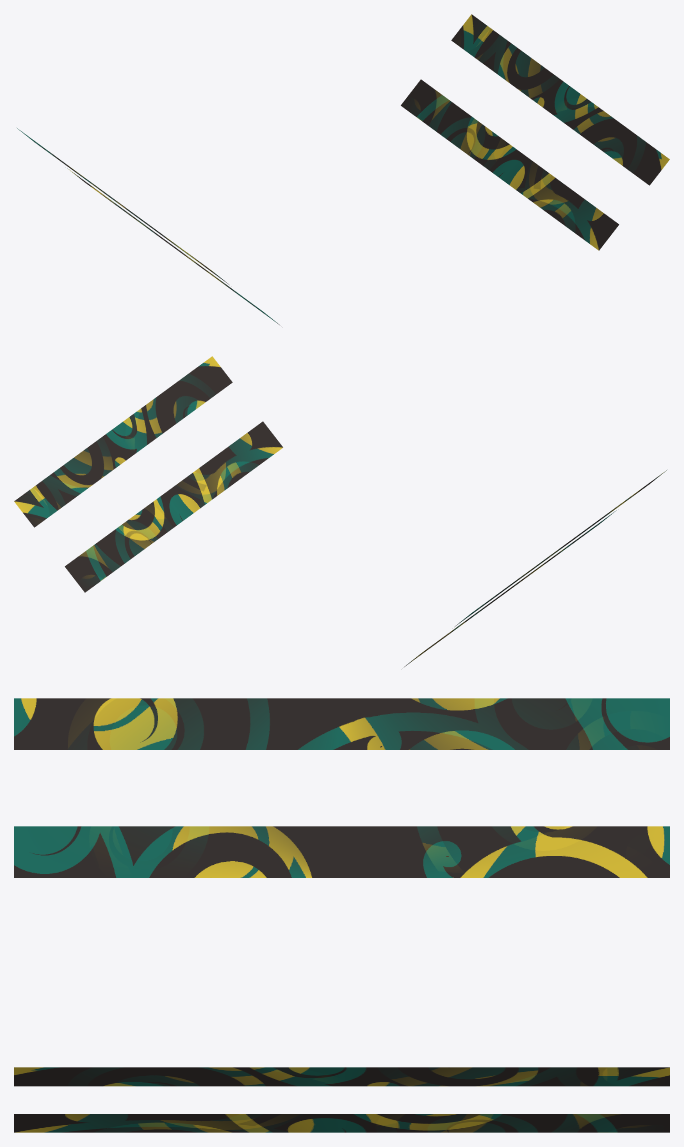
Rendered from Glider_Cloths.fbx.
3 views of the same model, one above another, from view 1: azimuth 30°, elevation 25°; view 2: azimuth 150°, elevation 25°; view 3: azimuth 270°, elevation 25° (orthographic). The views are drawn at different scales.
Visible parts, largest first — view 1: glider cloths; view 2: glider cloths; view 3: glider cloths.
Boxes of the visible parts, <box> form: glider cloths: <box>17,14,669,324</box>; glider cloths: <box>14,356,666,666</box>; glider cloths: <box>14,698,669,1132</box>.
Size of the model in its own units: 208 by 32.24 by 156.
